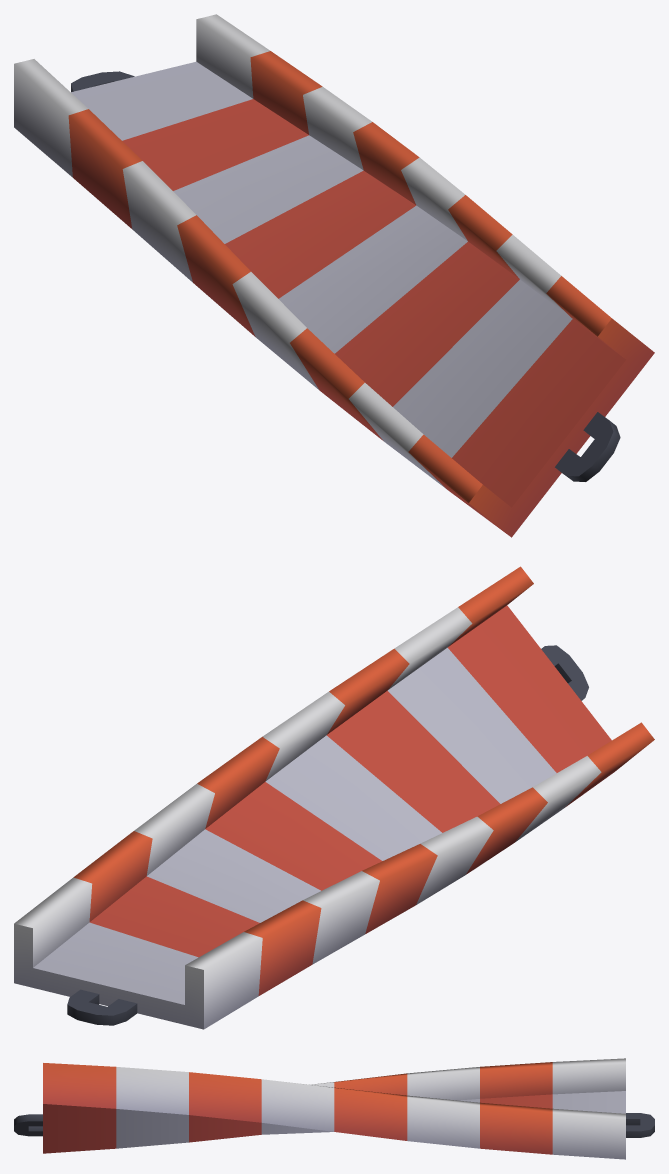
File: track-striped-narrow-straight-skew-right.glb
3 views of the same model, one above another, from view 1: azimuth 30°, elevation 25°; view 2: azimuth 150°, elevation 25°; view 3: azimuth 270°, elevation 25° (orthographic). The views are drawn at different scales.
Parts seen in each view (by area): view 1: track-striped-narrow-straight-skew-right; view 2: track-striped-narrow-straight-skew-right; view 3: track-striped-narrow-straight-skew-right.
Boxes of the visible parts, <box> form: track-striped-narrow-straight-skew-right: <box>14,14,654,537</box>; track-striped-narrow-straight-skew-right: <box>14,566,654,1029</box>; track-striped-narrow-straight-skew-right: <box>14,1058,654,1159</box>.
Bounding box in the file's own units: 1.08 × 0.9192 × 4.4.
